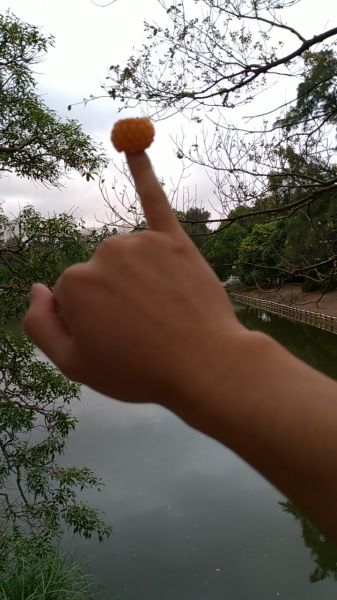eggs: (111, 119, 155, 151)
